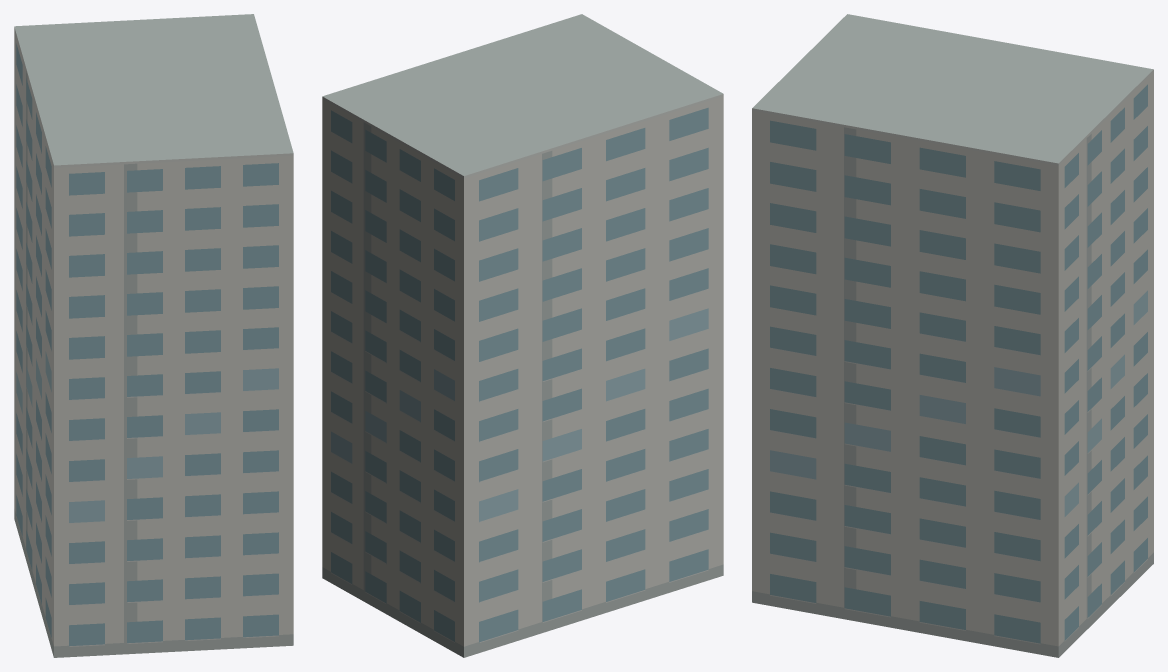
File: residential-f0666939-94fb-4c8d-adc7-db2f21598014.glb
3 views of the same model, side by side, from view 1: azimuth 30°, elevation 25°; view 2: azimuth 150°, elevation 25°; view 3: azimuth 270°, elevation 25° (orthographic). The views are drawn at different scales.
Visible parts, largest first — view 1: residential-f0666939-94fb-4c8d-adc7-db2f21598014.tmp; view 2: residential-f0666939-94fb-4c8d-adc7-db2f21598014.tmp; view 3: residential-f0666939-94fb-4c8d-adc7-db2f21598014.tmp.
Part boxes in pixels (x1,y1,x2,y2): residential-f0666939-94fb-4c8d-adc7-db2f21598014.tmp: (14,14,293,657); residential-f0666939-94fb-4c8d-adc7-db2f21598014.tmp: (322,14,723,657); residential-f0666939-94fb-4c8d-adc7-db2f21598014.tmp: (752,14,1153,657).
Size of the model in its own units: 31.79 by 49 by 36.09.
